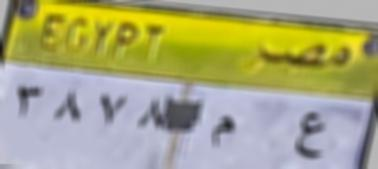3: (14, 82, 46, 120)
7: (96, 95, 132, 132)
8: (52, 89, 86, 130), (132, 99, 167, 136)
ain: (289, 104, 331, 168)
meem: (202, 111, 239, 158)
